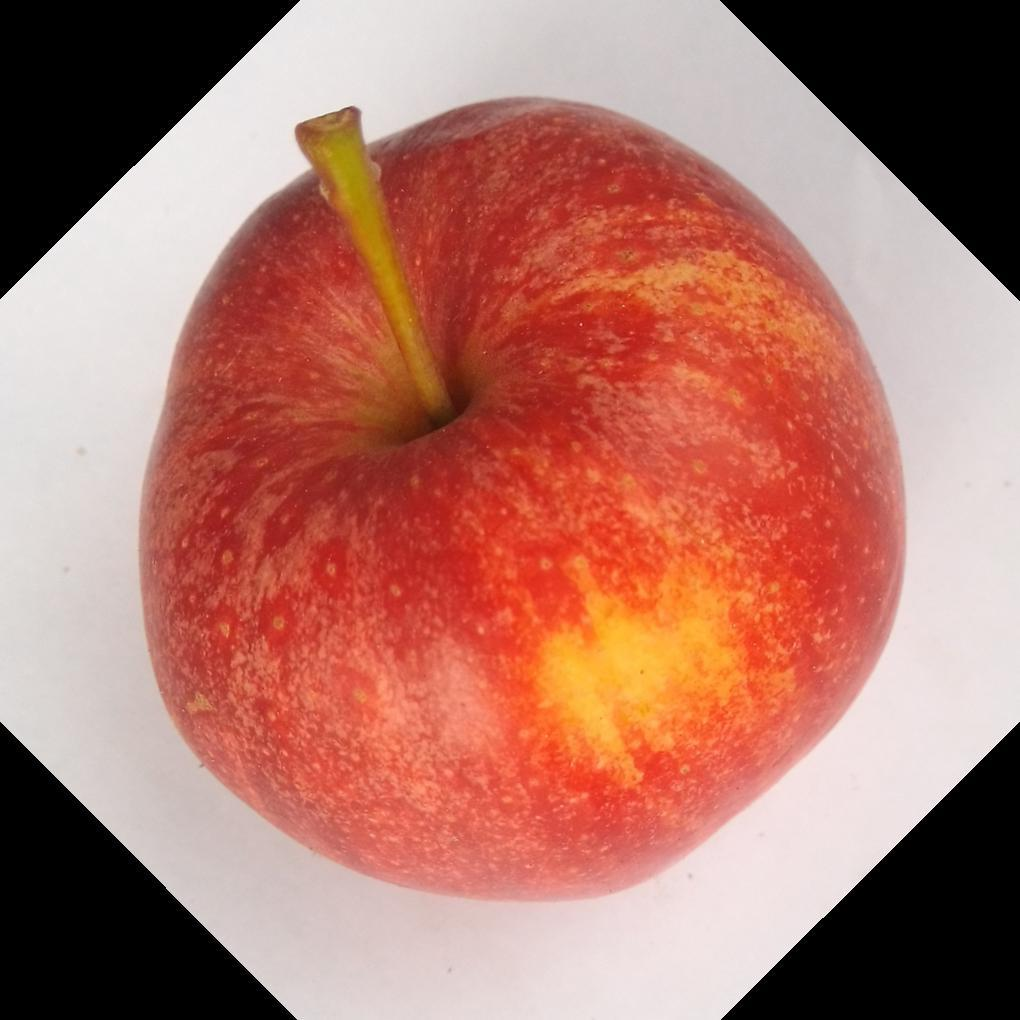FreshGuava: (135, 97, 907, 908)
